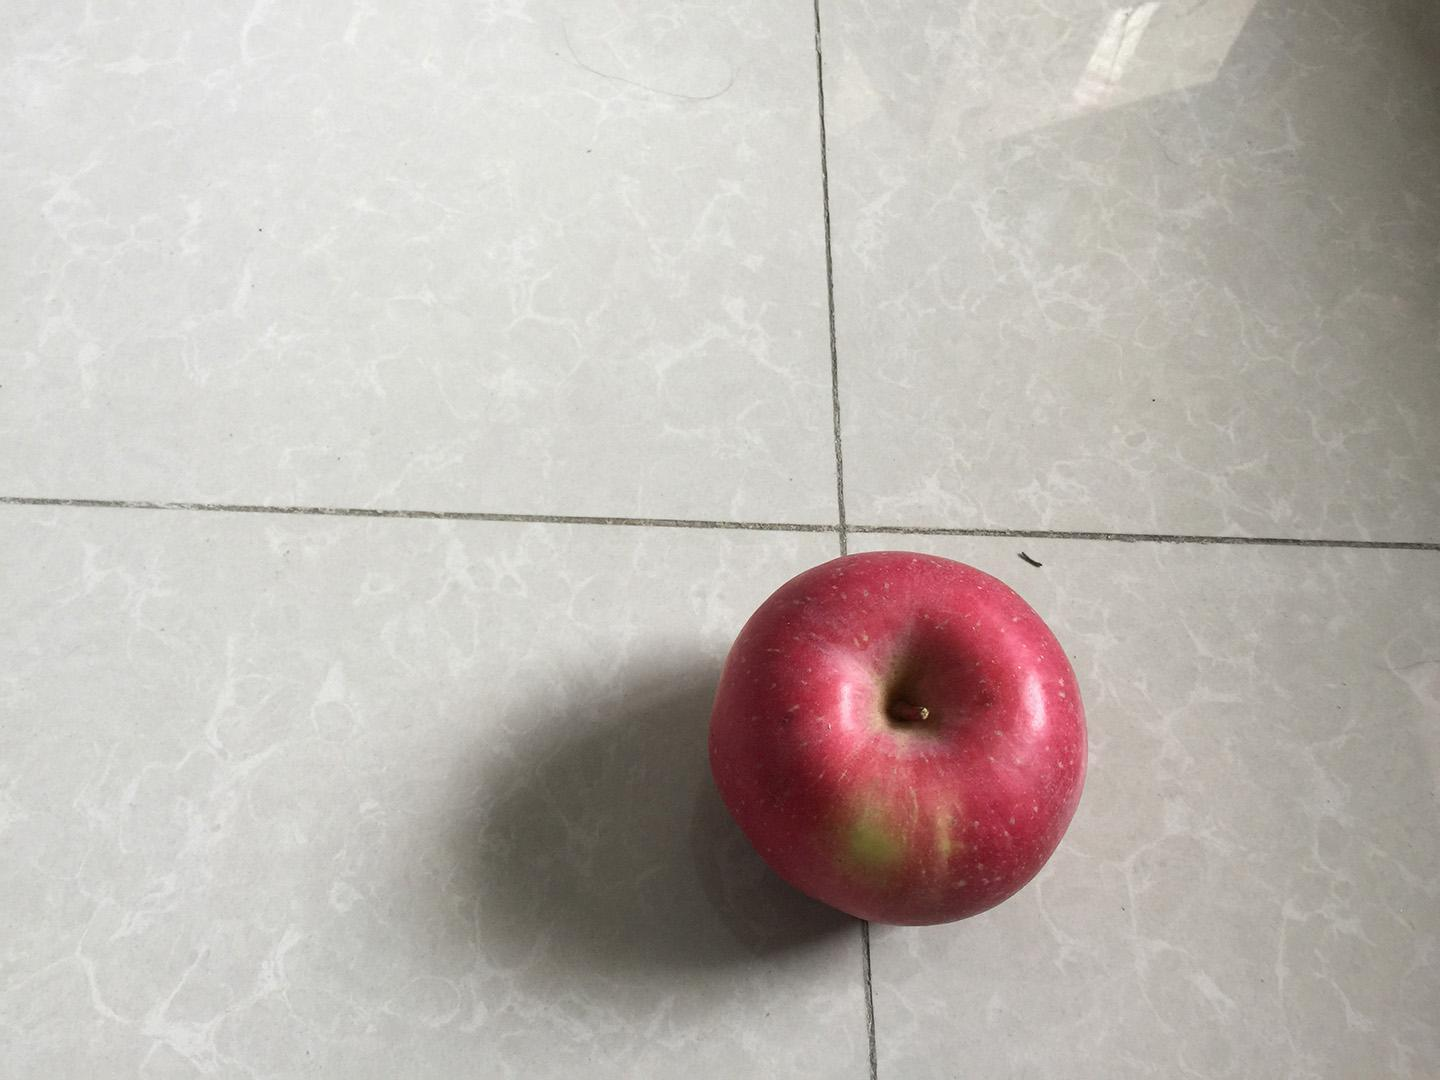apple: (703, 542, 1096, 934)
